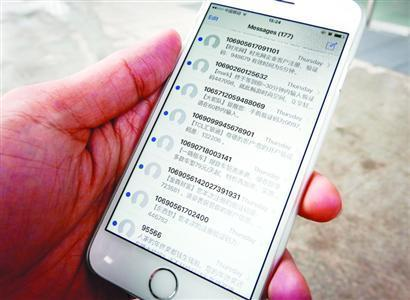phone: (87, 4, 364, 300)
